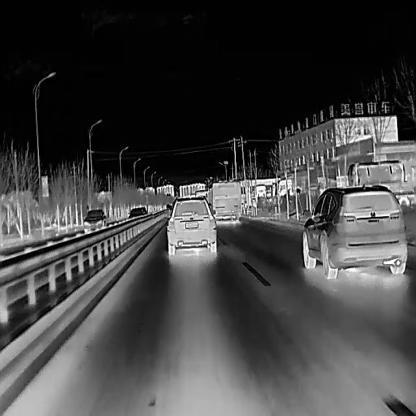car: (301, 181, 408, 280), (339, 160, 415, 207), (164, 195, 216, 255), (206, 181, 241, 220), (82, 208, 106, 235), (126, 206, 148, 225), (276, 179, 292, 201), (254, 184, 267, 206)
